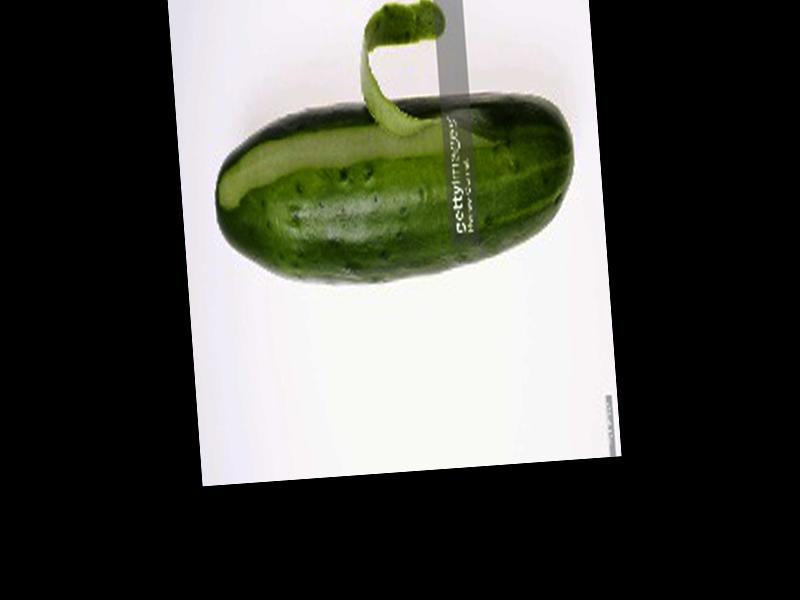Cucumber: (207, 83, 582, 291)
